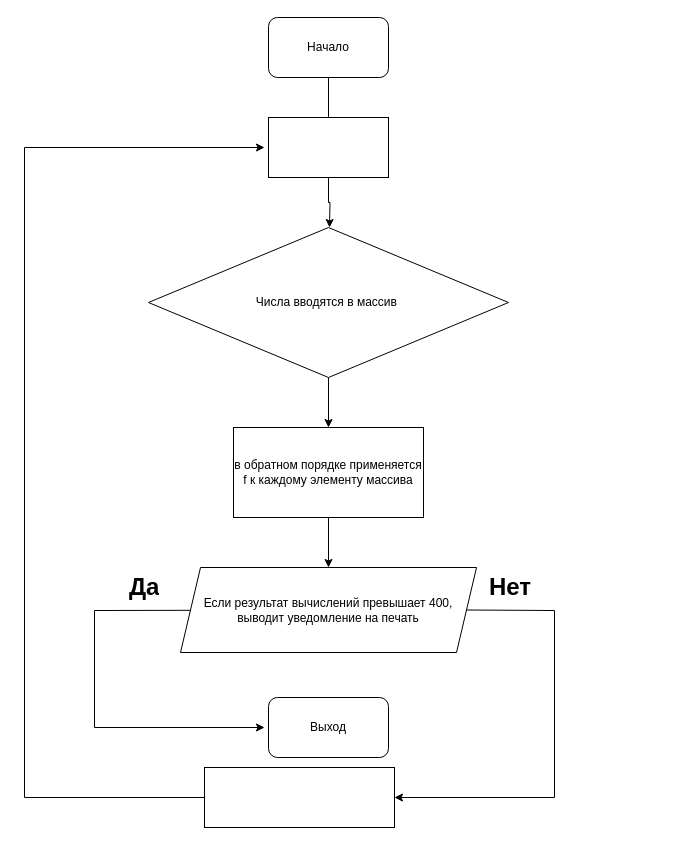
Image size: 692x845. Some labels were removed from this diagram. The centre of each missing label's shape, as x and y in pixels:
Ввод 11 чисел: (328,147)
Печатает " TOO LARGE": (299,797)
